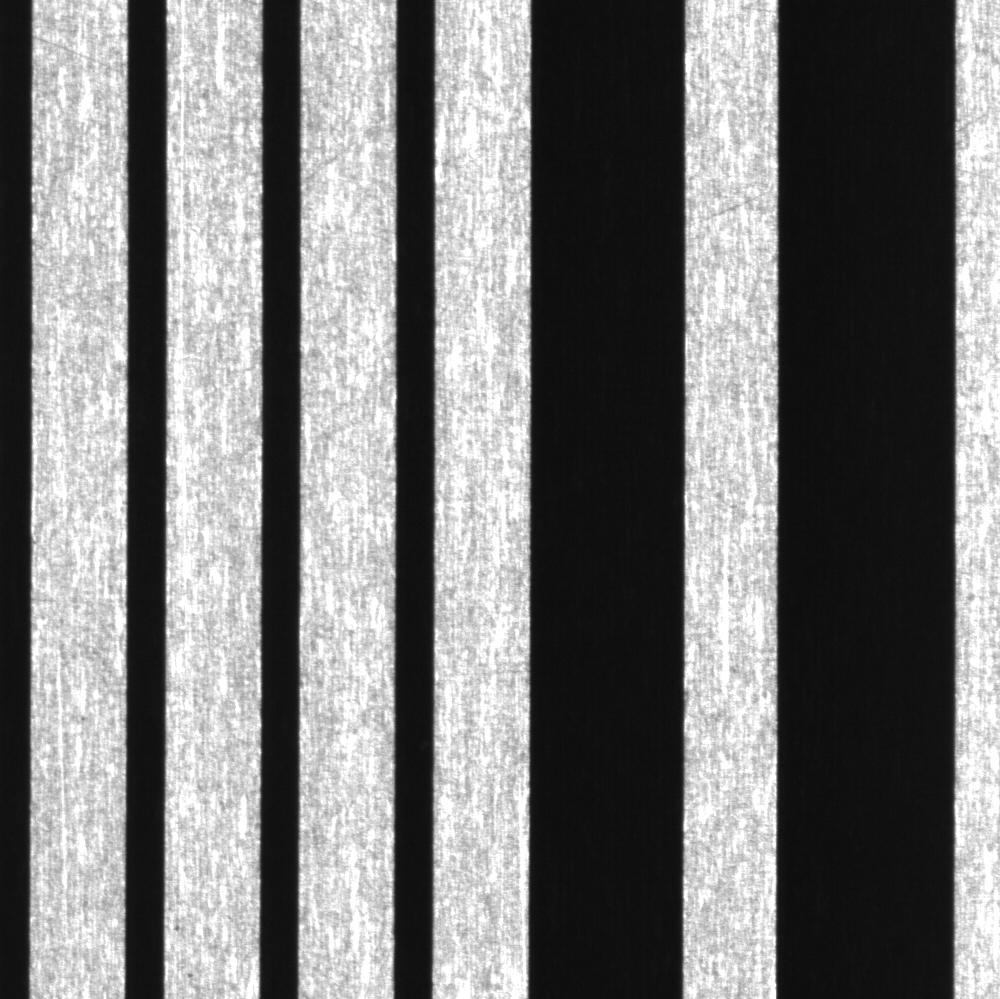Scar: (688, 175, 783, 235), (33, 30, 124, 86), (960, 95, 1000, 204)
